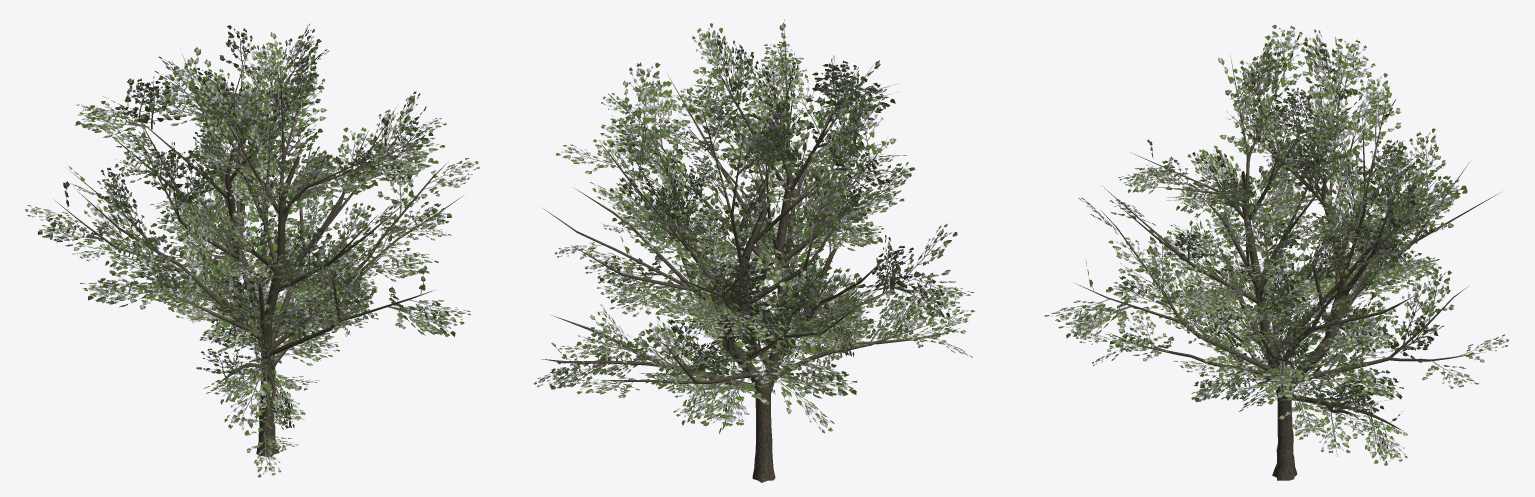
Rendered from Tree_B_B.fbx.
The picture shows the model from 3 angles, left to right: view 1: azimuth 30°, elevation 25°; view 2: azimuth 150°, elevation 25°; view 3: azimuth 270°, elevation 25°; orthographic projection. The views are drawn at different scales.
Visible parts, largest first — view 1: Tree_B_B_LOD0; view 2: Tree_B_B_LOD0; view 3: Tree_B_B_LOD0.
Boxes of the visible parts, x1,y1,x2,y2 form: Tree_B_B_LOD0: (25, 24, 479, 477); Tree_B_B_LOD0: (533, 19, 974, 482); Tree_B_B_LOD0: (1044, 25, 1508, 480).
Size of what is drawn, in the model's own units: 483 by 466 by 501.
